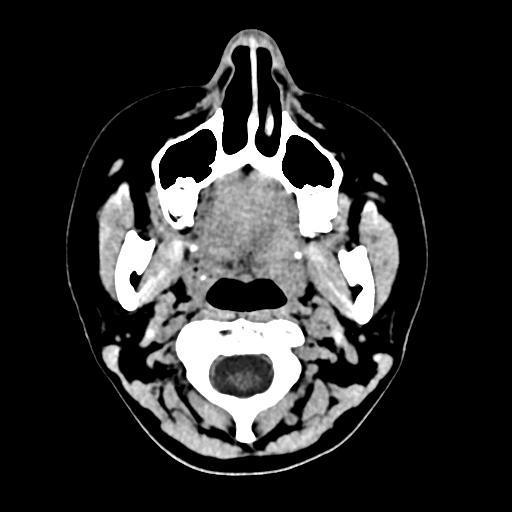Normal_Brain: (11, 13, 496, 501)
